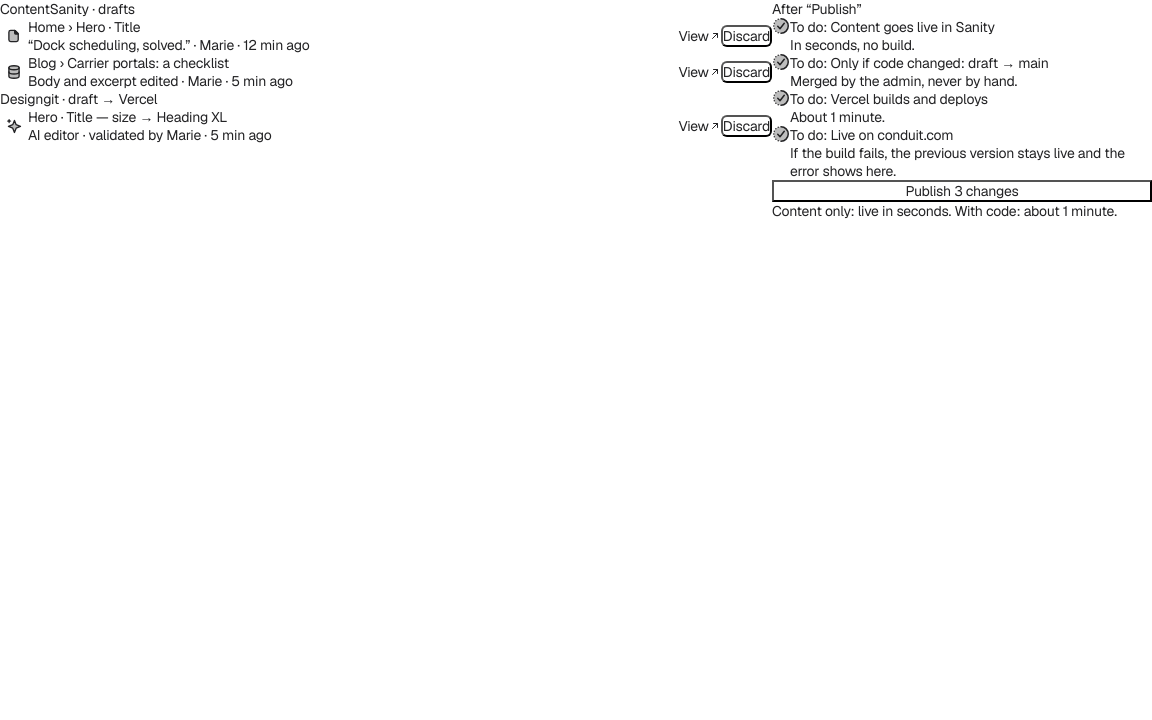
Scenario: E1 · Pending › Discard : confirmation, puis la ligne disparaît (état renvoyé par le moteur)
Click the button with aria-label "Discard Home › Hero · Title": (746, 36) [721,25,772,47]
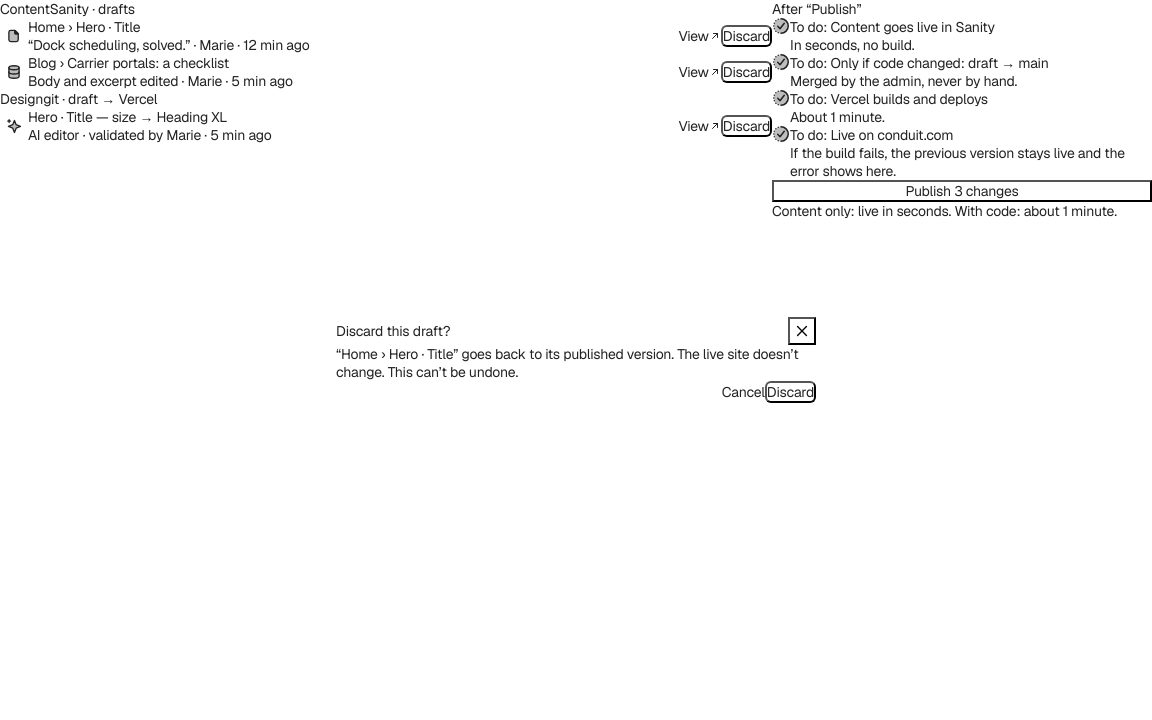
Click the button "Discard": (790, 392) [765,381,816,403]
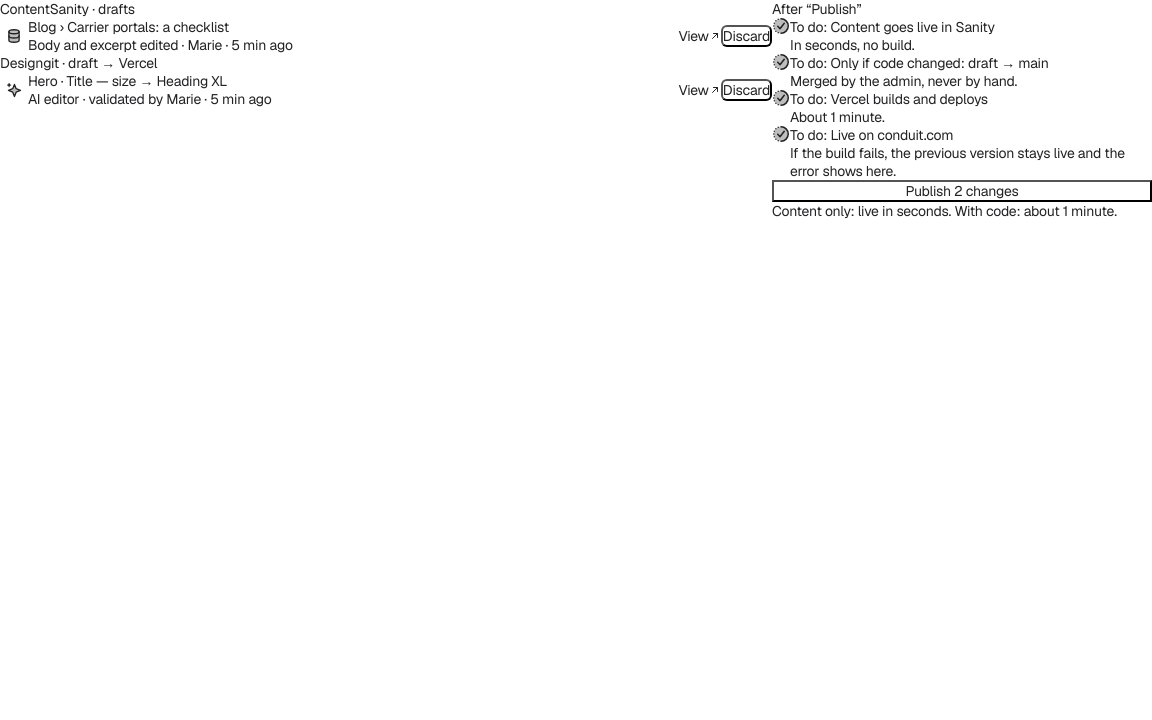
Expected: the text "Home › Hero · Title" is gone
Expected: the button "Publish 2 changes" is shown, [772,180,1151,202]
